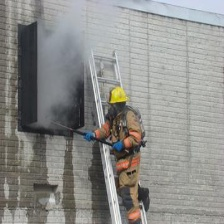smoke: (33, 1, 111, 125)
